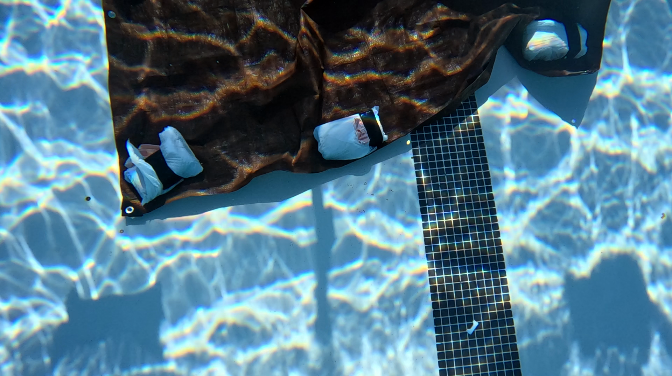sandbag: (103, 0, 611, 216)
